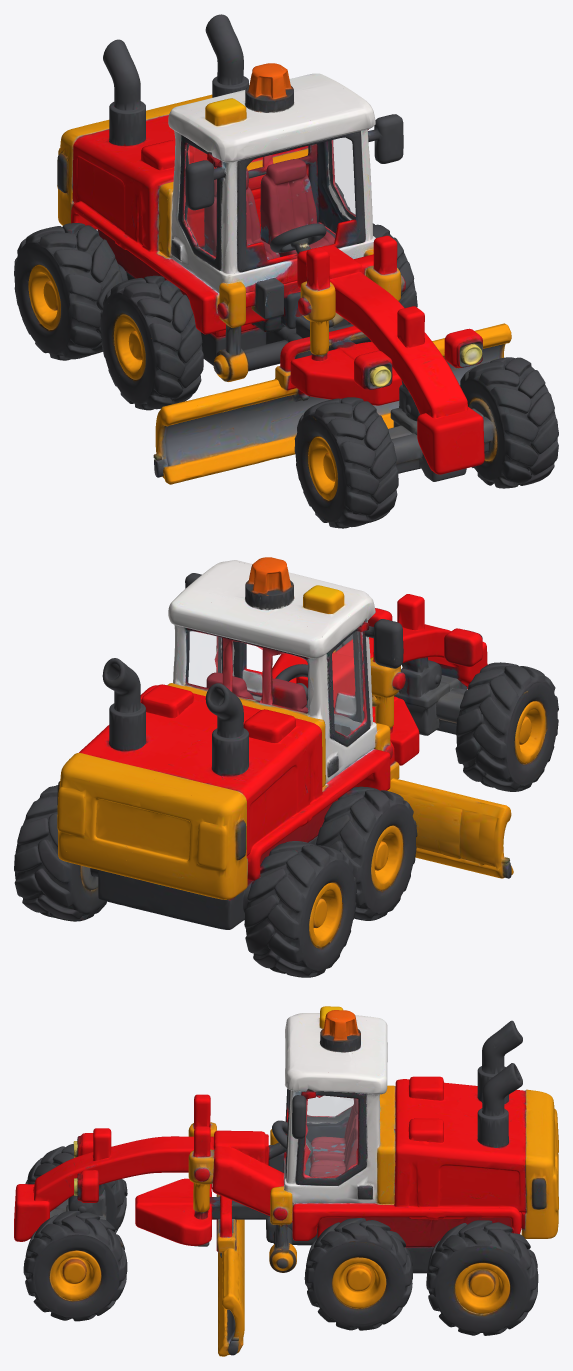
The model's file is grader-red.glb.
3 renders of one model, top to bottom at view 1: azimuth 30°, elevation 25°; view 2: azimuth 150°, elevation 25°; view 3: azimuth 270°, elevation 25°, orthographic. The views are drawn at different scales.
Parts seen in each view (by area): view 1: tripo_part_1, tripo_part_15, tripo_part_6, tripo_part_9, tripo_part_23, tripo_part_24, tripo_part_32, tripo_part_11, tripo_part_10, tripo_part_28, tripo_part_5, tripo_part_7 (+53 smaller); view 2: tripo_part_25, tripo_part_1, tripo_part_15, tripo_part_6, tripo_part_16, tripo_part_127, tripo_part_32, tripo_part_2, tripo_part_187, tripo_part_23, tripo_part_11, tripo_part_7 (+44 smaller); view 3: tripo_part_16, tripo_part_1, tripo_part_9, tripo_part_25, tripo_part_18, tripo_part_8, tripo_part_74, tripo_part_4, tripo_part_30, tripo_part_15, tripo_part_22, tripo_part_63 (+38 smaller).
Part boxes in pixels (box(x1,y1,x2,y2)): tripo_part_1: box(168, 73, 375, 248); tripo_part_15: box(71, 115, 216, 254); tripo_part_6: box(153, 379, 330, 467); tripo_part_9: box(330, 271, 468, 418); tripo_part_23: box(101, 284, 203, 404); tripo_part_24: box(226, 131, 365, 273); tripo_part_32: box(15, 238, 122, 354); tripo_part_11: box(71, 201, 286, 334); tripo_part_10: box(260, 159, 334, 256); tripo_part_28: box(417, 407, 484, 474); tripo_part_5: box(290, 341, 393, 405); tripo_part_7: box(103, 39, 146, 145); tripo_part_25: box(57, 753, 248, 899); tripo_part_1: box(167, 560, 375, 721); tripo_part_15: box(158, 705, 325, 857); tripo_part_6: box(387, 778, 511, 871); tripo_part_16: box(79, 685, 217, 771); tripo_part_127: box(98, 870, 229, 928); tripo_part_32: box(274, 856, 354, 971); tripo_part_2: box(14, 796, 72, 912); tripo_part_187: box(95, 799, 190, 859); tripo_part_23: box(330, 787, 416, 914); tripo_part_11: box(247, 748, 390, 880); tripo_part_7: box(205, 683, 249, 776); tripo_part_16: box(394, 1109, 526, 1213); tripo_part_1: box(285, 1013, 395, 1204); tripo_part_9: box(32, 1136, 214, 1211); tripo_part_25: box(521, 1089, 558, 1238); tripo_part_18: box(428, 1235, 527, 1335); tripo_part_8: box(307, 1222, 412, 1326); tripo_part_74: box(33, 1234, 119, 1321); tripo_part_4: box(292, 1203, 521, 1240); tripo_part_30: box(212, 1146, 292, 1222); tripo_part_15: box(387, 1079, 525, 1124); tripo_part_22: box(135, 1197, 216, 1245); tripo_part_63: box(279, 1090, 371, 1203).
Size of the model in its own units: 1.79 by 1.56 by 2.84.
Materials: 196 (191 with a texture image).
